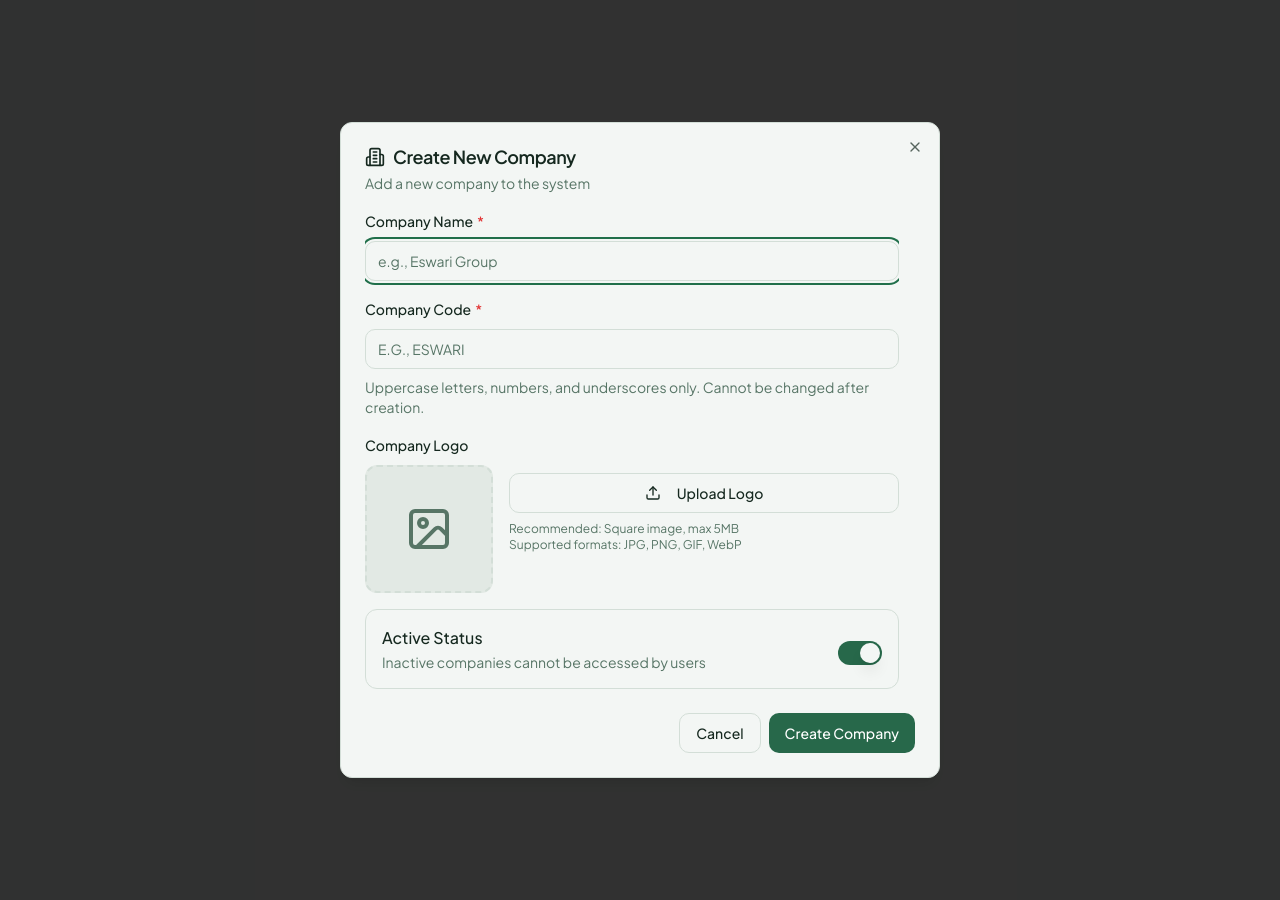
Scenario: CompanyManagementForm › should reject invalid characters in company code
In the field labelled "Company Code*": (632,349) [365, 329, 899, 369], type "test-code!@#"
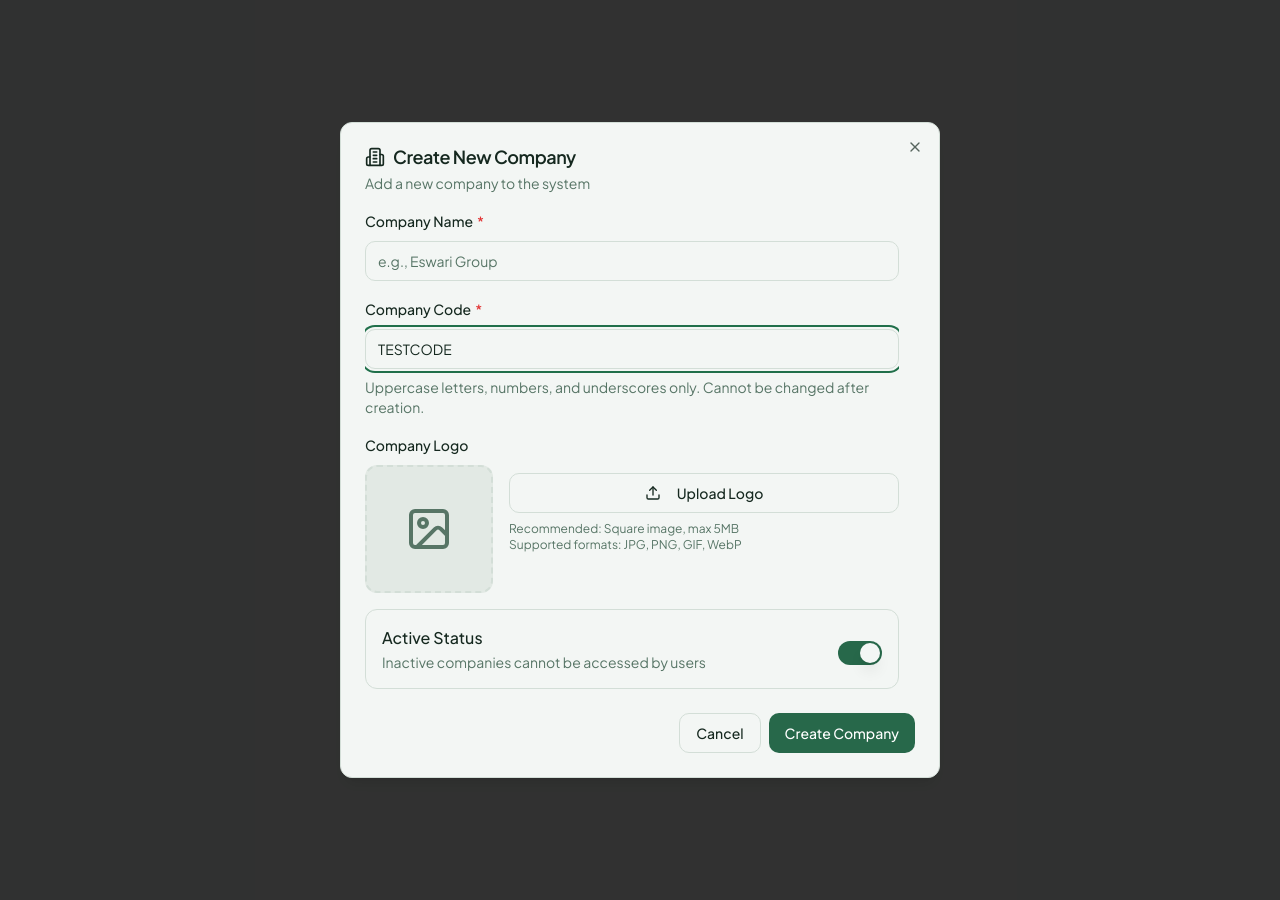
Expected: the field labelled "Company Code*" holds "TESTCODE", [365, 329, 899, 369]
